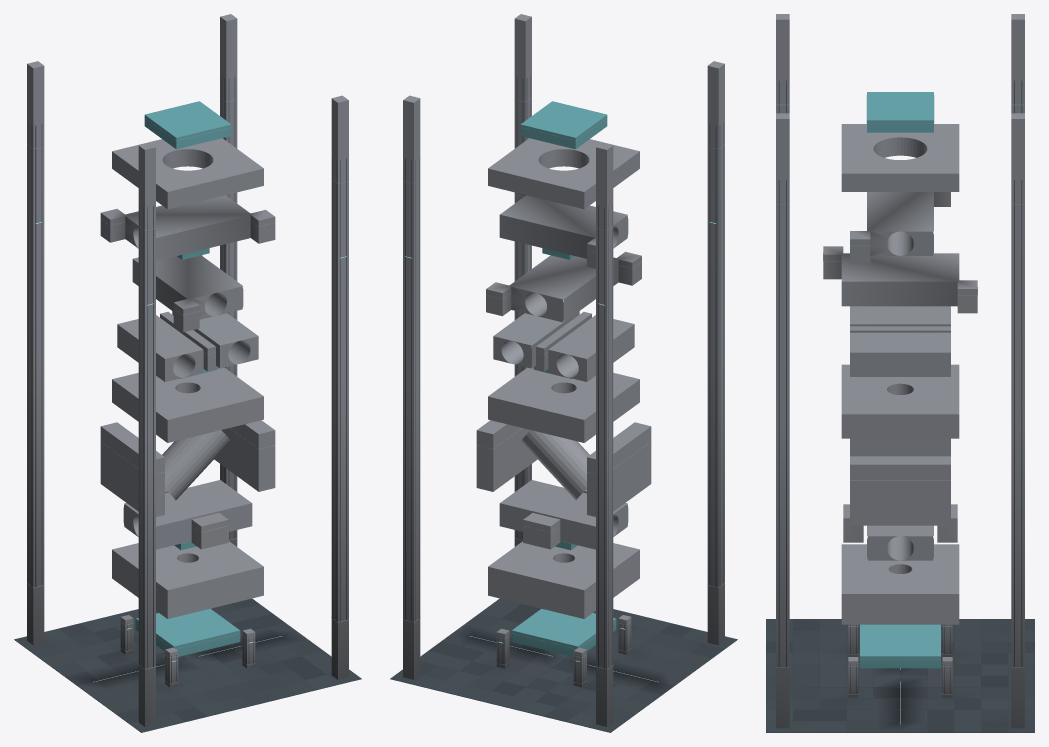
Rendered from 01_world.glb.
The picture shows the model from 3 angles, left to right: view 1: azimuth 30°, elevation 25°; view 2: azimuth 150°, elevation 25°; view 3: azimuth 270°, elevation 25°; orthographic projection. The views are drawn at different scales.
Parts seen in each view (by area): view 1: world_11_body_nocol, world_01_body_nocol, world_00_body_nocol, world_11_floor_noshadow_nocol, world_11_foam_nocol, world_01_floor_noshadow_nocol, world_00_floor_noshadow_nocol, world_10_body_nocol, world_00_panel_noshadow_nocol, world_10_floor_noshadow_nocol, world_11_panel_noshadow_nocol, world_01_panel_noshadow_nocol (+1 smaller); view 2: world_11_body_nocol, world_01_body_nocol, world_10_body_nocol, world_00_body_nocol, world_10_floor_noshadow_nocol, world_11_foam_nocol, world_00_floor_noshadow_nocol, world_01_floor_noshadow_nocol, world_01_panel_noshadow_nocol, world_11_floor_noshadow_nocol, world_10_panel_noshadow_nocol, world_00_panel_noshadow_nocol (+1 smaller); view 3: world_11_body_nocol, world_01_body_nocol, world_10_body_nocol, world_10_floor_noshadow_nocol, world_11_floor_noshadow_nocol, world_11_foam_nocol, world_00_floor_noshadow_nocol, world_01_floor_noshadow_nocol, world_00_body_nocol, world_10_panel_noshadow_nocol, world_11_panel_noshadow_nocol.
Part boxes in pixels (x1,y1,x2,y2): world_11_body_nocol: [112, 95, 348, 679]; world_01_body_nocol: [100, 142, 243, 726]; world_00_body_nocol: [27, 61, 133, 654]; world_11_floor_noshadow_nocol: [188, 632, 361, 705]; world_11_foam_nocol: [135, 101, 240, 656]; world_01_floor_noshadow_nocol: [78, 659, 251, 732]; world_00_floor_noshadow_nocol: [14, 612, 187, 685]; world_10_body_nocol: [165, 14, 237, 546]; world_00_panel_noshadow_nocol: [28, 123, 131, 650]; world_10_floor_noshadow_nocol: [124, 598, 297, 658]; world_11_panel_noshadow_nocol: [243, 157, 346, 664]; world_01_panel_noshadow_nocol: [139, 204, 176, 683]; world_11_body_nocol: [476, 14, 639, 618]; world_01_body_nocol: [509, 61, 724, 654]; world_10_body_nocol: [403, 95, 560, 679]; world_00_body_nocol: [573, 142, 613, 726]; world_10_floor_noshadow_nocol: [390, 632, 563, 705]; world_11_foam_nocol: [511, 101, 616, 656]; world_00_floor_noshadow_nocol: [500, 659, 673, 732]; world_01_floor_noshadow_nocol: [564, 612, 737, 685]; world_01_panel_noshadow_nocol: [620, 123, 723, 650]; world_11_floor_noshadow_nocol: [454, 598, 627, 658]; world_10_panel_noshadow_nocol: [405, 157, 508, 664]; world_00_panel_noshadow_nocol: [575, 204, 612, 683]; world_11_body_nocol: [776, 113, 959, 728]; world_01_body_nocol: [776, 14, 959, 656]; world_10_body_nocol: [937, 113, 1024, 728]; world_10_floor_noshadow_nocol: [900, 675, 1034, 732]; world_11_floor_noshadow_nocol: [766, 675, 900, 732]; world_11_foam_nocol: [860, 92, 940, 668]; world_00_floor_noshadow_nocol: [900, 619, 1034, 675]; world_01_floor_noshadow_nocol: [766, 619, 900, 675]; world_00_body_nocol: [934, 14, 1024, 656]; world_10_panel_noshadow_nocol: [942, 180, 1022, 693]; world_11_panel_noshadow_nocol: [778, 180, 858, 693].
Bounding box in the file's own units: 80 × 200 × 80.
